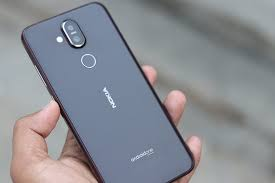nokia: (20, 1, 194, 181)
